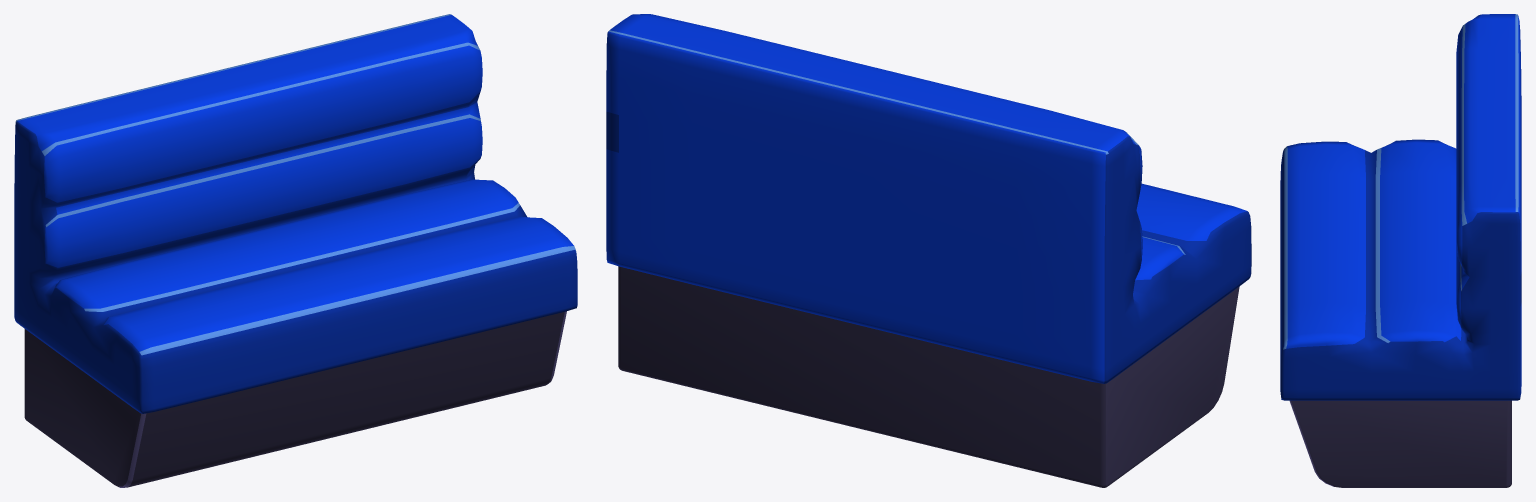
Rendered from CafeBench.fbx.
3 renders of one model, left to right at view 1: azimuth 30°, elevation 25°; view 2: azimuth 150°, elevation 25°; view 3: azimuth 270°, elevation 25°, orthographic. The views are drawn at different scales.
Parts seen in each view (by area): view 1: Cube.001, Cube; view 2: Cube.001, Cube; view 3: Cube.001, Cube.
Boxes of the visible parts, box(x1,y1,x2,y2) form: Cube.001: box(14, 14, 577, 413); Cube: box(24, 311, 566, 487); Cube.001: box(606, 14, 1251, 383); Cube: box(618, 266, 1239, 487); Cube.001: box(1280, 14, 1521, 400); Cube: box(1289, 400, 1511, 487).
Size of the model in its own units: 418 by 273 by 214.
